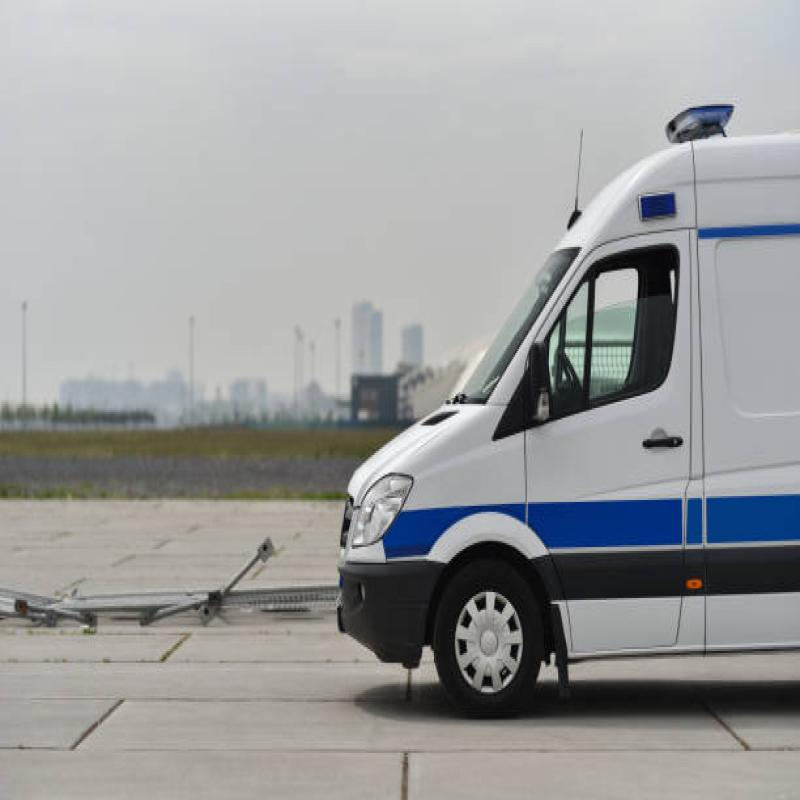ambulance: (319, 111, 800, 744)
